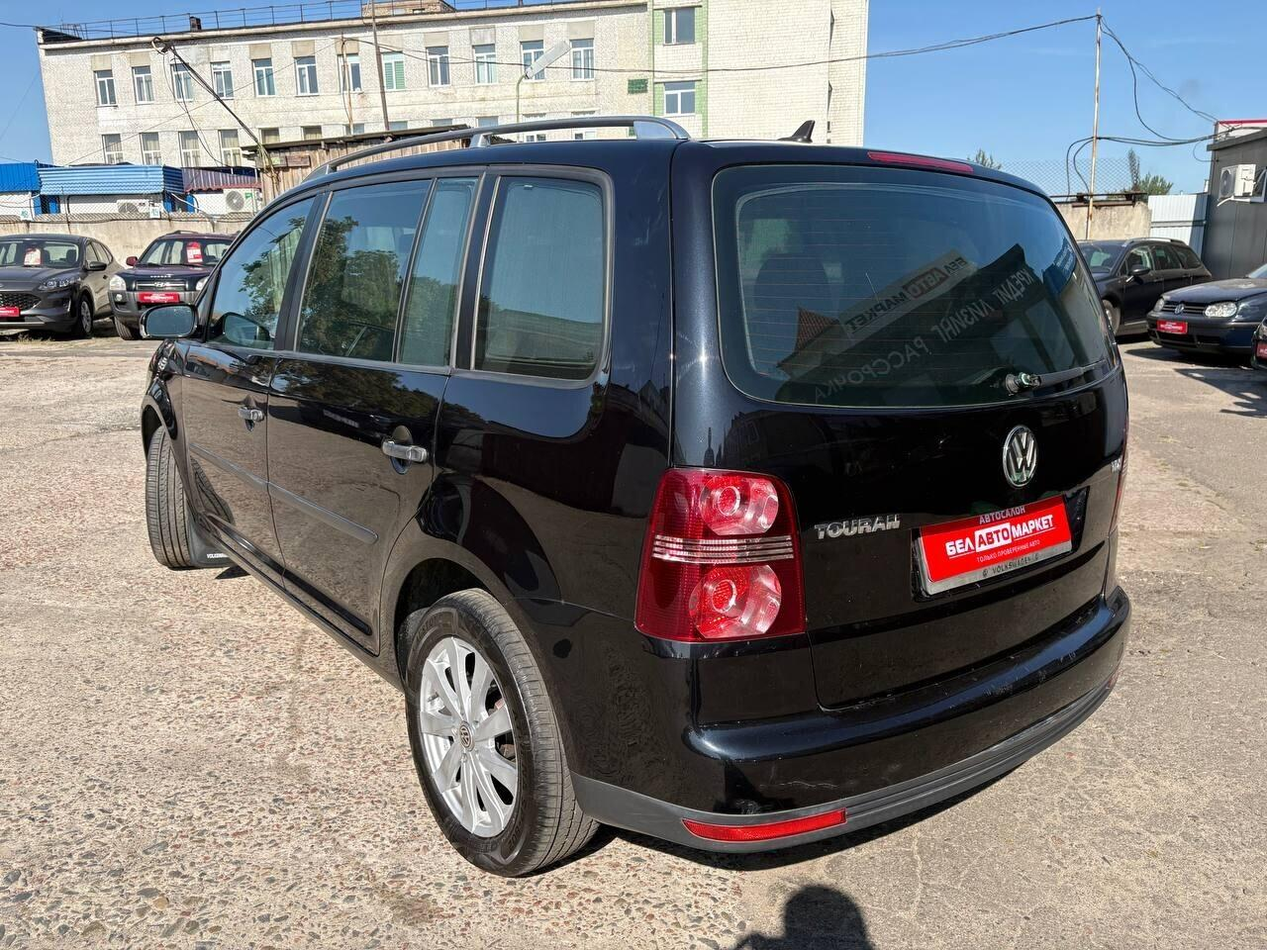Touran_2006-2010: (130, 135, 1131, 878)
